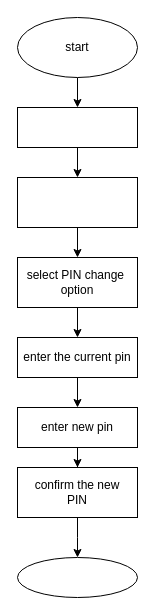
Some shapes in this 155 by 615 pixel diagram are drawn without their labels. Each missing label, with the centre of its shape:
"insert a ATM card" goes at point 77,127.
"select your language" goes at point 77,202.
"stop" goes at point 77,577.
